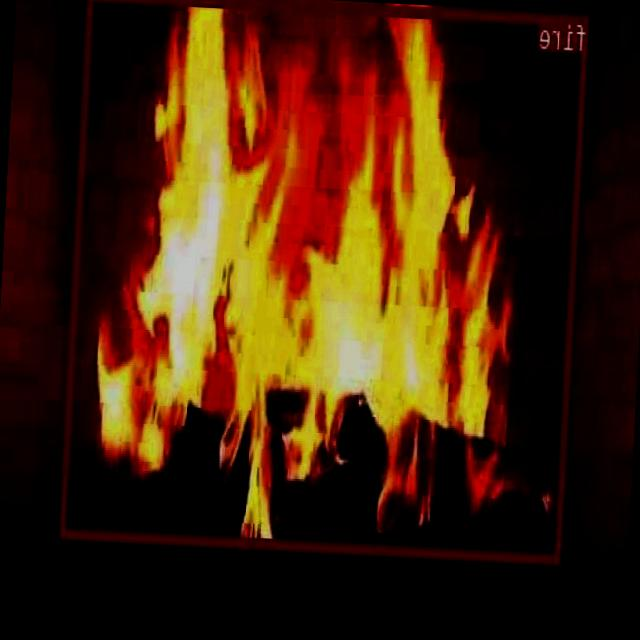fire: (61, 0, 591, 563)
